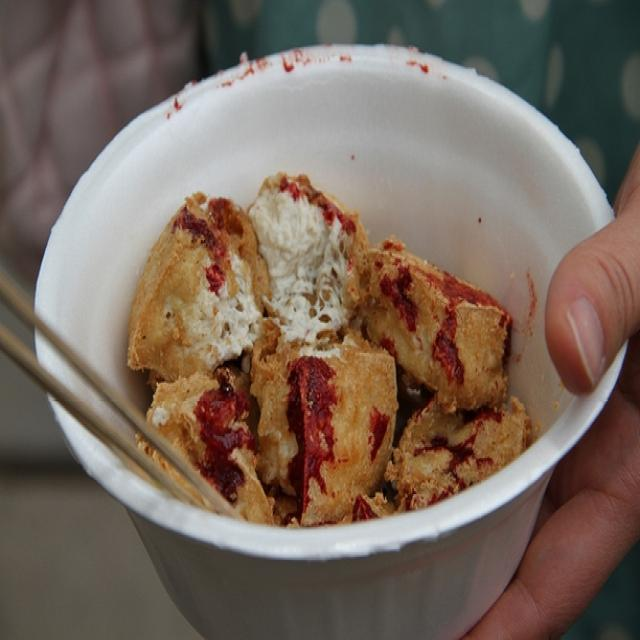豆腐料理: (25, 23, 628, 622)
